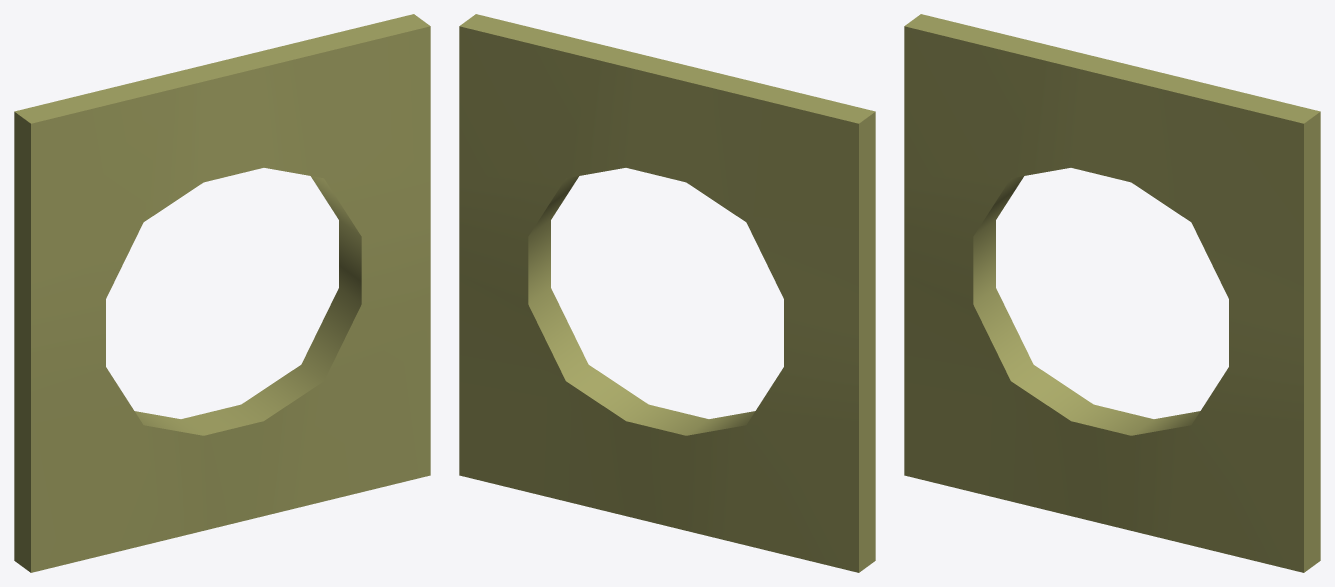
Rendered from Hole.fbx.
The picture shows the model from 3 angles, left to right: view 1: azimuth 30°, elevation 25°; view 2: azimuth 150°, elevation 25°; view 3: azimuth 330°, elevation 25°; orthographic projection.
Visible parts, largest first — view 1: Hole; view 2: Hole; view 3: Hole.
Boxes of the visible parts, x1,y1,x2,y2 form: Hole: [14, 14, 430, 572]; Hole: [459, 14, 875, 572]; Hole: [904, 14, 1320, 572].
Bounding box in the file's own units: 267 × 287 × 26.29.
